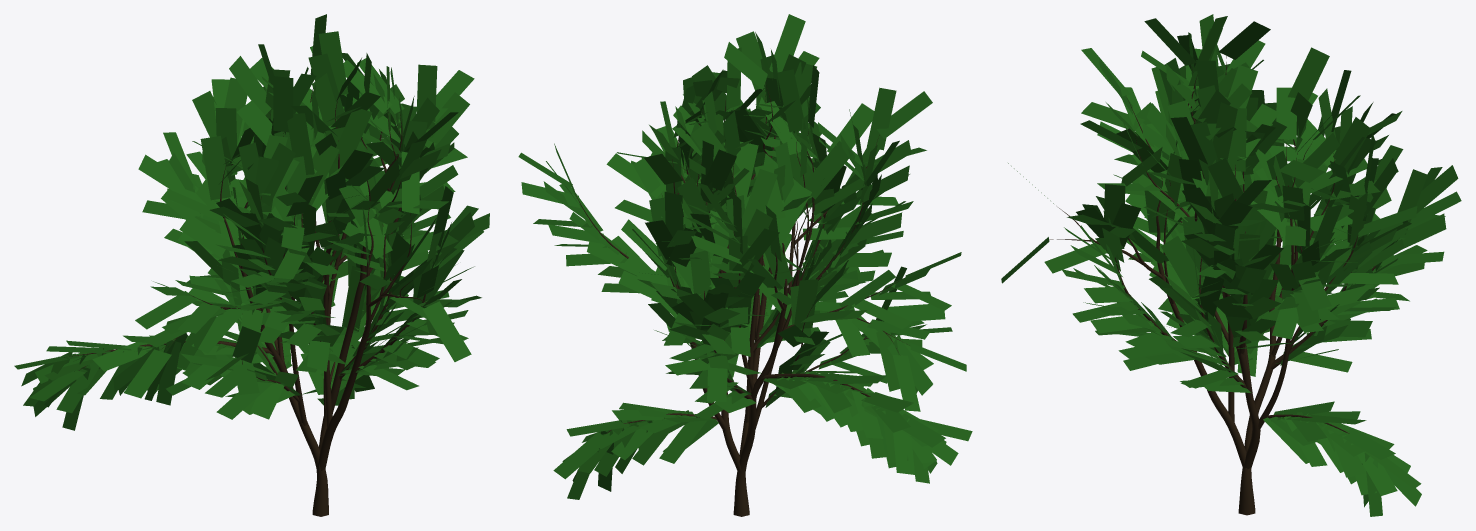
Rendered from tree.fbx.
3 views of the same model, side by side, from view 1: azimuth 30°, elevation 25°; view 2: azimuth 150°, elevation 25°; view 3: azimuth 270°, elevation 25° (orthographic). The views are drawn at different scales.
Parts seen in each view (by area): view 1: leaves, tree; view 2: leaves, tree; view 3: leaves, tree.
Boxes of the visible parts, x1=… form: leaves: x1=14, y1=14, x2=489, y2=430; tree: x1=64, y1=88, x2=430, y2=516; leaves: x1=518, y1=14, x2=972, y2=499; tree: x1=576, y1=87, x2=907, y2=516; leaves: x1=1001, y1=14, x2=1461, y2=516; tree: x1=1049, y1=56, x2=1375, y2=515.
Bounding box in the file's own units: 1754 × 2014 × 2081.
